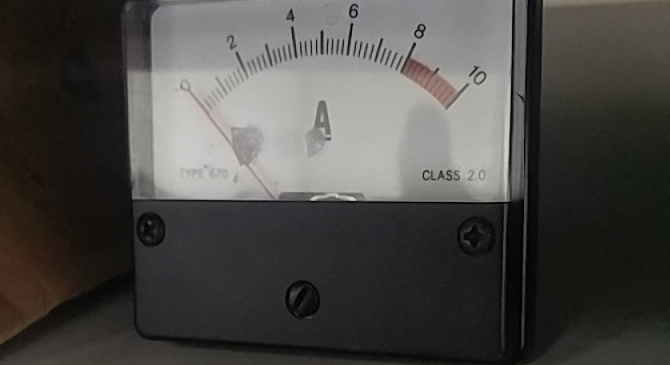Amp_Meter: (147, 4, 522, 203)
